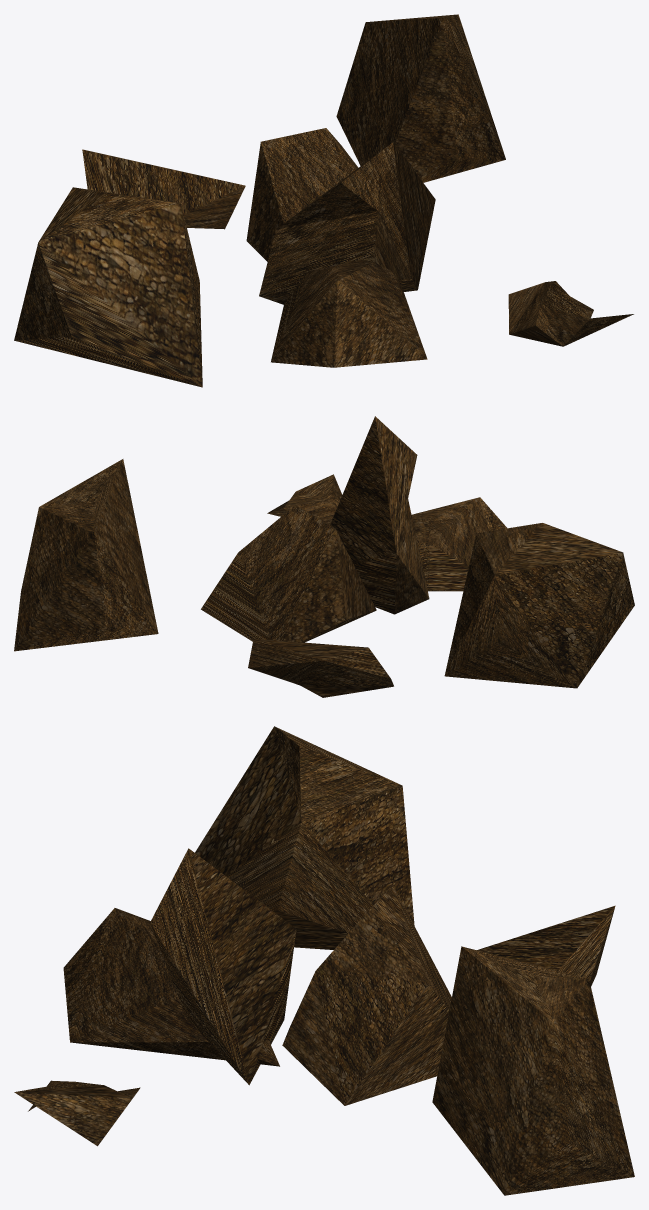
The model's file is mm9_deco_stonedebris04.glb.
3 renders of one model, top to bottom at view 1: azimuth 30°, elevation 25°; view 2: azimuth 150°, elevation 25°; view 3: azimuth 270°, elevation 25°, orthographic. The views are drawn at different scales.
Visible parts, largest first — view 1: Stonedebris04; view 2: Stonedebris04; view 3: Stonedebris04.
Boxes of the visible parts, bbox=[...] form: Stonedebris04: bbox=[14, 14, 633, 387]; Stonedebris04: bbox=[14, 416, 634, 697]; Stonedebris04: bbox=[14, 726, 634, 1195].
Bounding box in the file's own units: 2.43 × 0.7355 × 1.99.
Materials: 1 (1 with a texture image).
